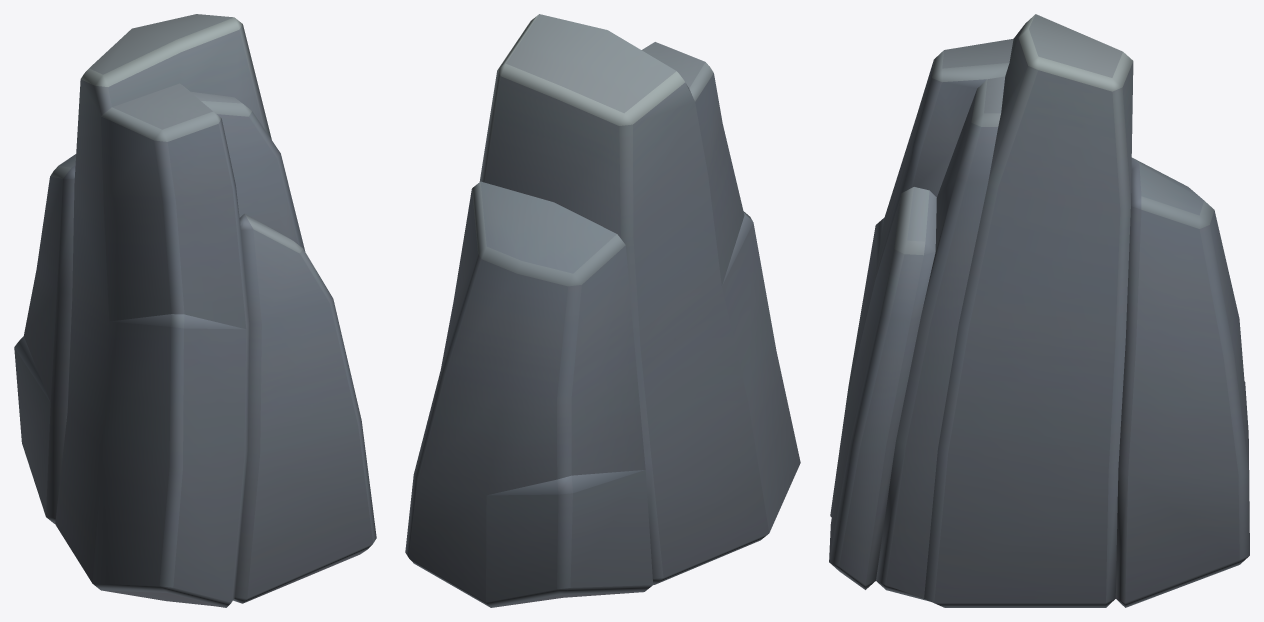
Rendered from rock_014.fbx.
3 views of the same model, side by side, from view 1: azimuth 30°, elevation 25°; view 2: azimuth 150°, elevation 25°; view 3: azimuth 270°, elevation 25° (orthographic). The views are drawn at different scales.
Parts seen in each view (by area): view 1: rock_014; view 2: rock_014; view 3: rock_014.
Boxes of the visible parts, x1,y1,x2,y2 form: rock_014: (14, 14, 376, 607); rock_014: (405, 14, 800, 607); rock_014: (829, 14, 1249, 607).
Size of the model in its own units: 229 by 474 by 328.
